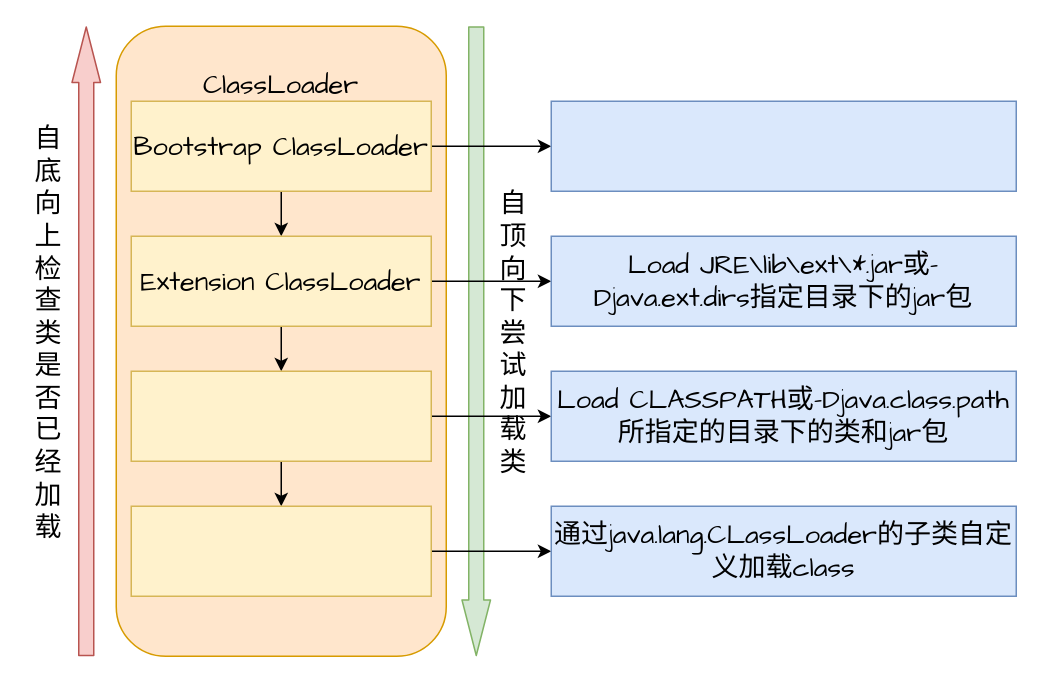
This 1043x683 diagram has some shape labels left out. The centre of each missing label's shape, as x and y in pixels:
"App ClassLoader" belongs at pixel 280 415.
"Custom ClassLoader" belongs at pixel 280 550.
"Load JRE\lib\rt.jar 或者-Xbootclasspath选项指定的jar包" belongs at pixel 783 145.
